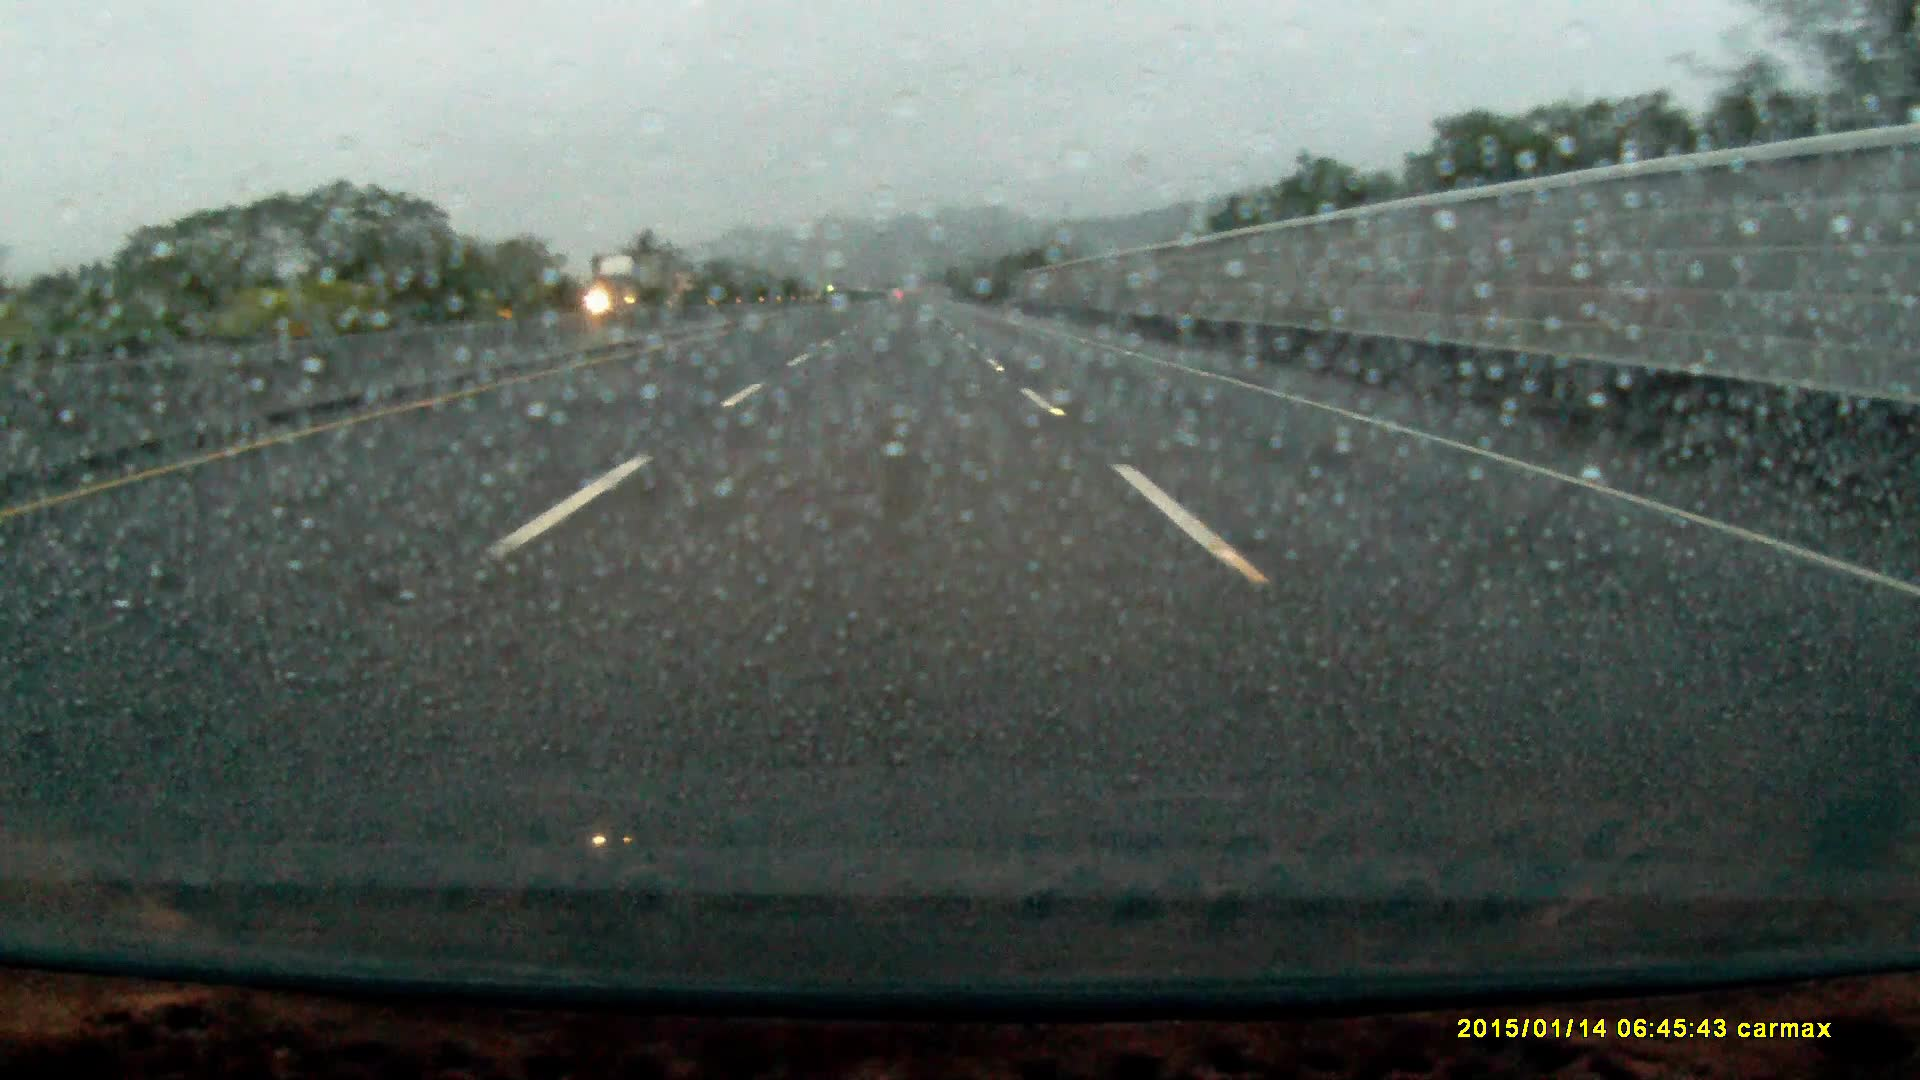vehicle: (587, 258, 674, 318)
